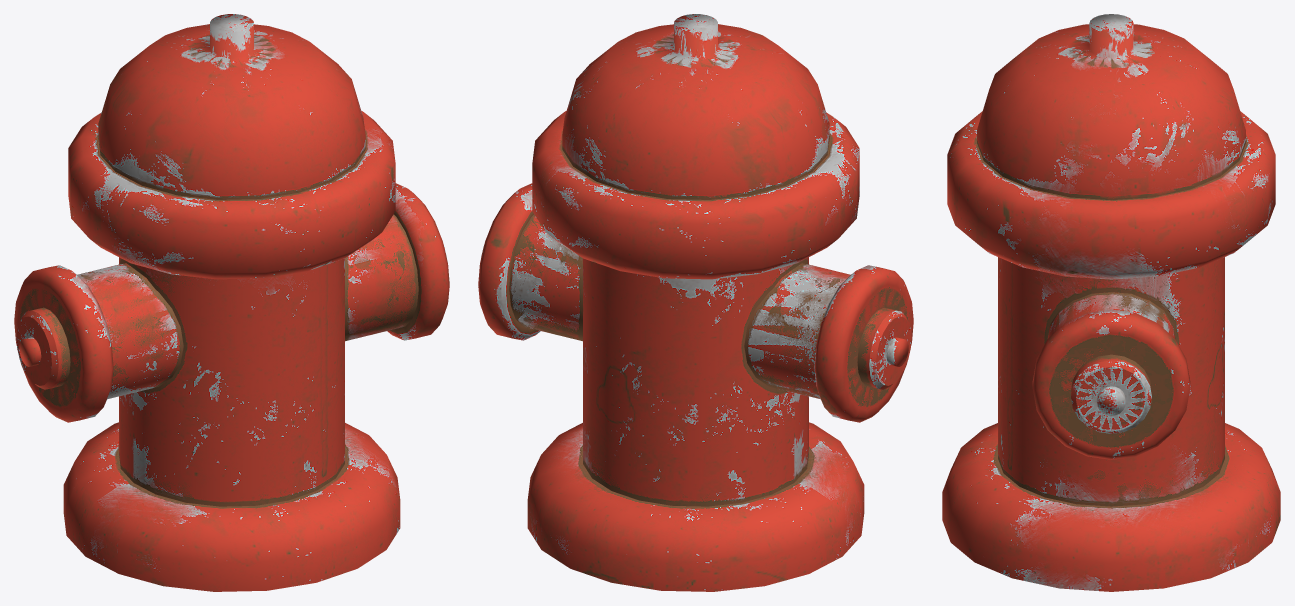
Rendered from hydrant_001.glb.
The picture shows the model from 3 angles, left to right: view 1: azimuth 30°, elevation 25°; view 2: azimuth 150°, elevation 25°; view 3: azimuth 270°, elevation 25°; orthographic projection.
Parts seen in each view (by area): view 1: hydrant.001; view 2: hydrant.001; view 3: hydrant.001.
Boxes of the visible parts, <box> form: hydrant.001: <box>14,14,449,591</box>; hydrant.001: <box>478,14,913,591</box>; hydrant.001: <box>942,14,1280,591</box>.
Bounding box in the file's own units: 0.8494 × 0.9818 × 0.6053.
1 material, 1 textured.
